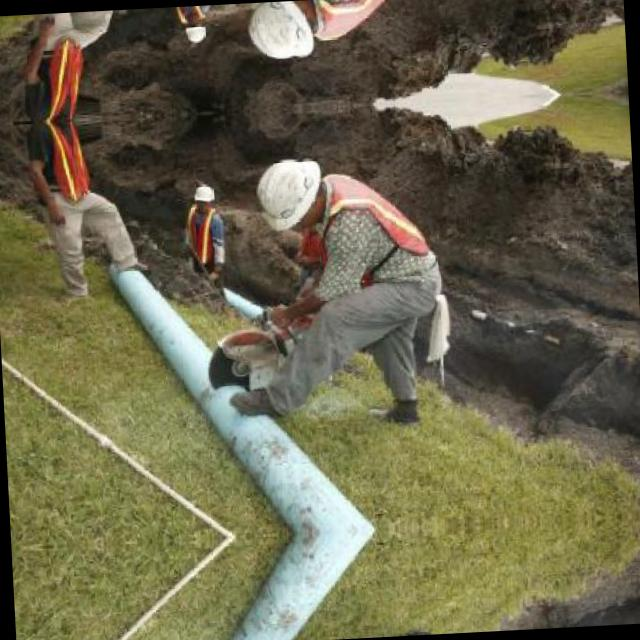helmet: (252, 153, 330, 232), (243, 0, 322, 63), (188, 179, 216, 211), (180, 13, 208, 45)
